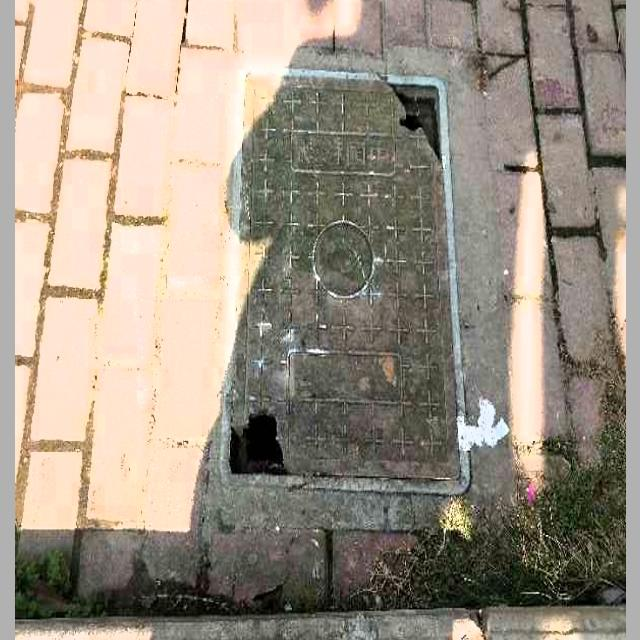broke: (226, 67, 449, 492)
